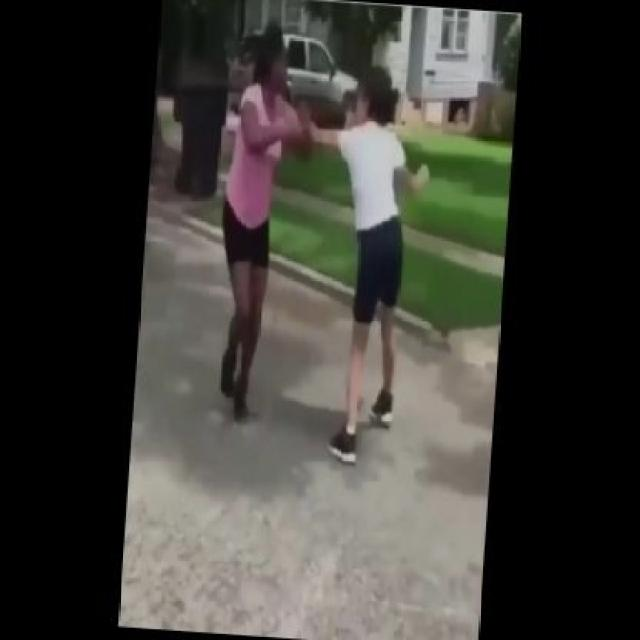fight: (200, 20, 446, 477)
